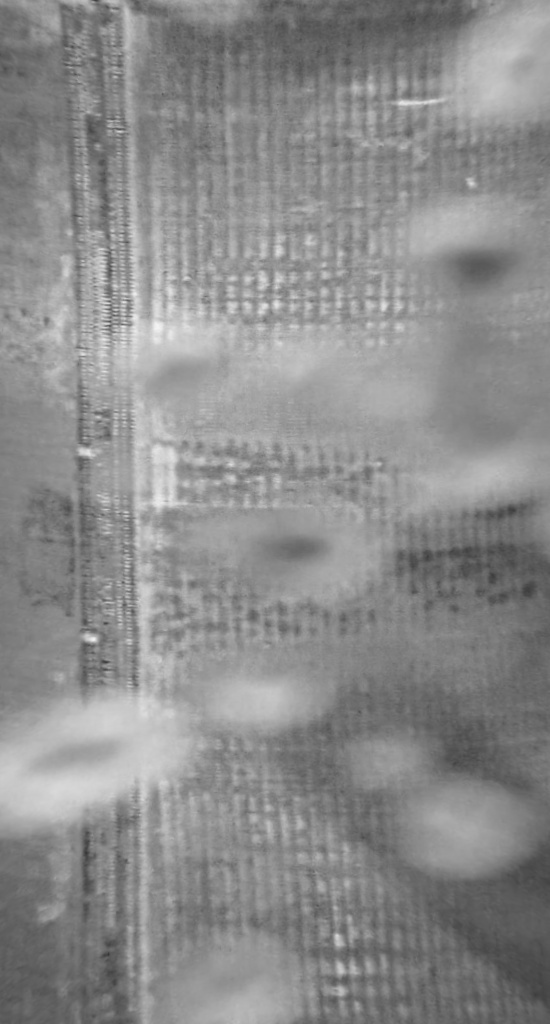splice: (50, 2, 147, 1024)
